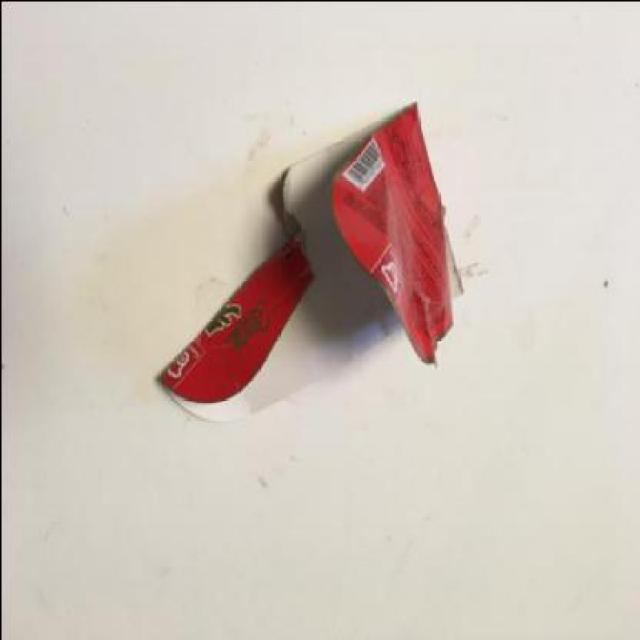PAPER: (155, 107, 462, 425)
